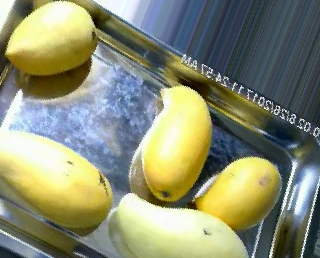Mango: (0, 127, 115, 228), (137, 83, 213, 203), (115, 191, 249, 257), (3, 0, 99, 77), (193, 153, 282, 227)
